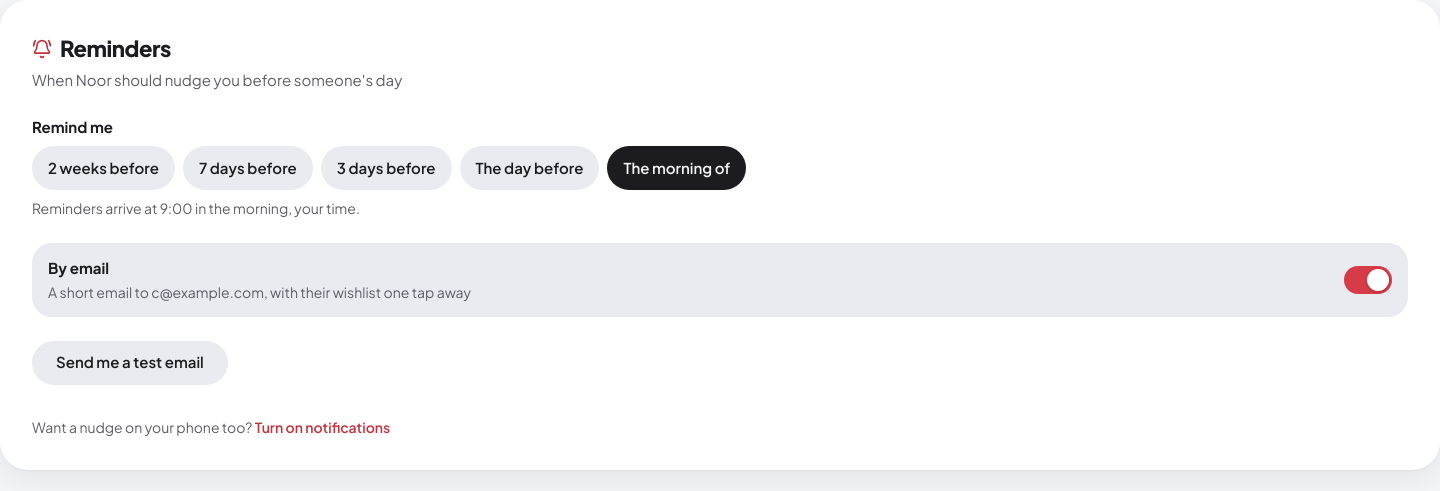
Test case: Settings → Reminders › no days picked: says there won't be reminders
Click the button "The morning of". click: (677, 168)
box: [607, 146, 746, 190]
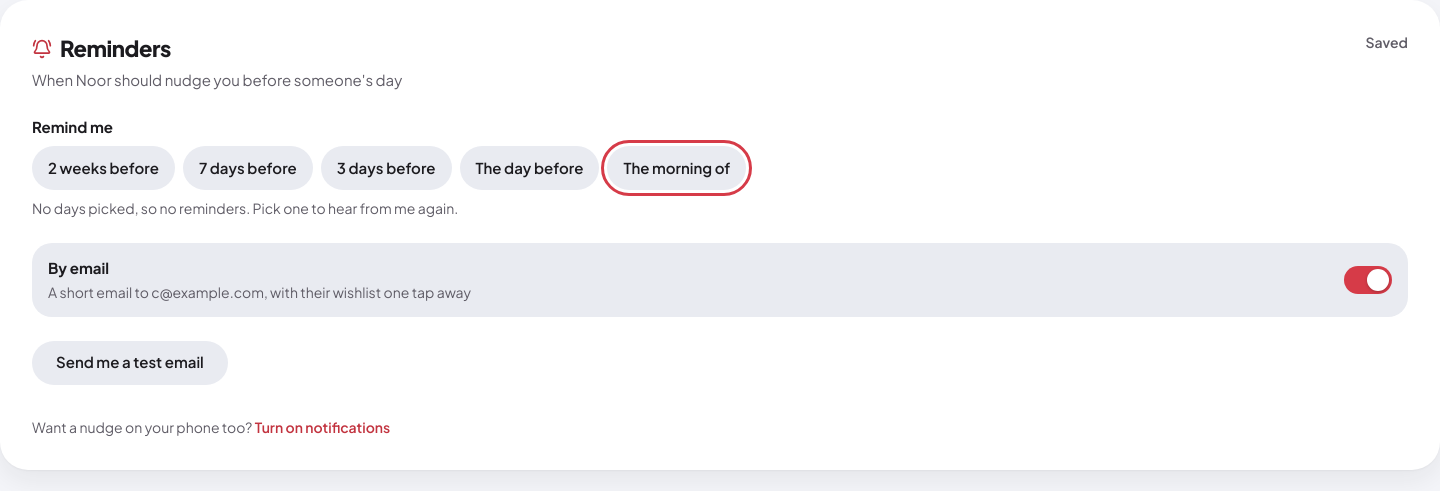
Result: the text "No days picked, so no reminders" is shown at [32, 199, 458, 217]
